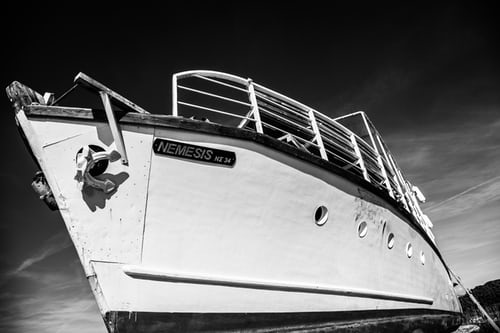yacht: (10, 52, 491, 328)
